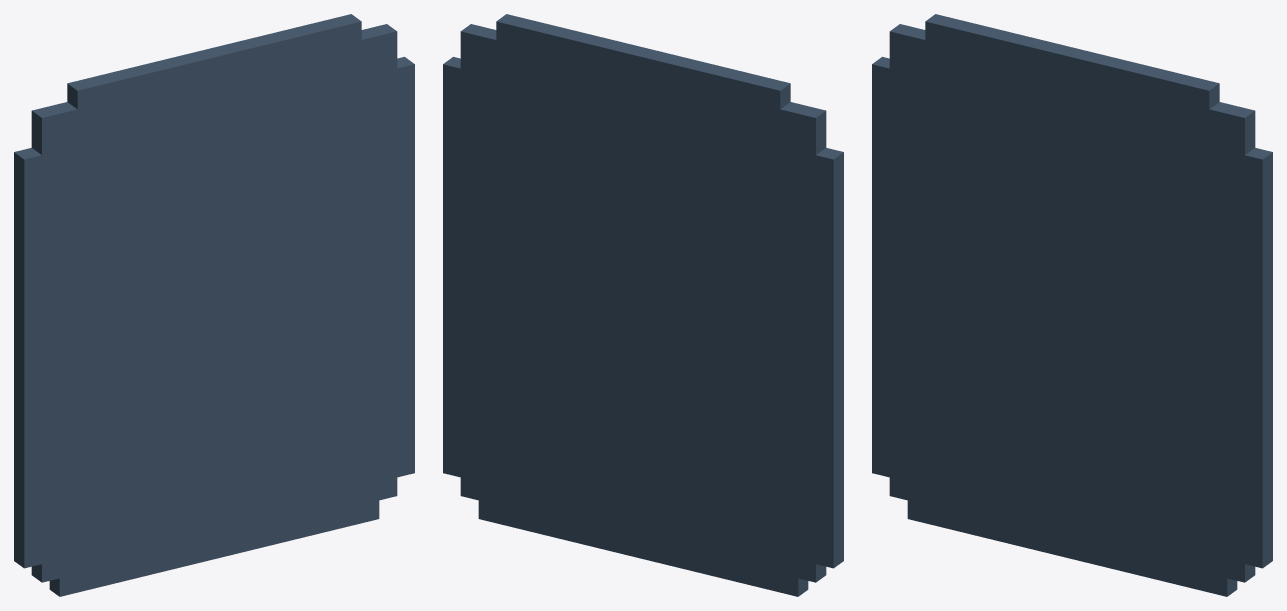
Rendered from boiler_shaper.glb.
The picture shows the model from 3 angles, left to right: view 1: azimuth 30°, elevation 25°; view 2: azimuth 150°, elevation 25°; view 3: azimuth 330°, elevation 25°; orthographic projection.
Visible parts, largest first — view 1: generated(Clone); view 2: generated(Clone); view 3: generated(Clone).
Part boxes in pixels (x1,y1,x2,y2): generated(Clone): (14, 14, 414, 596); generated(Clone): (443, 14, 843, 596); generated(Clone): (872, 14, 1272, 596).
Bounding box in the file's own units: 22 × 27 × 1.
Materials: 1 (1 with a texture image).
